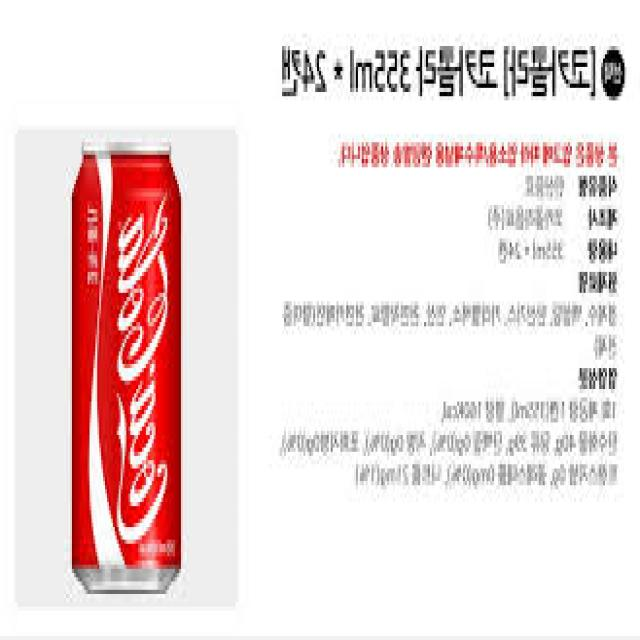Coca-Cola: (62, 121, 192, 602)
